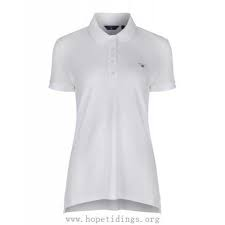S_polo shirt: (46, 14, 179, 211)
